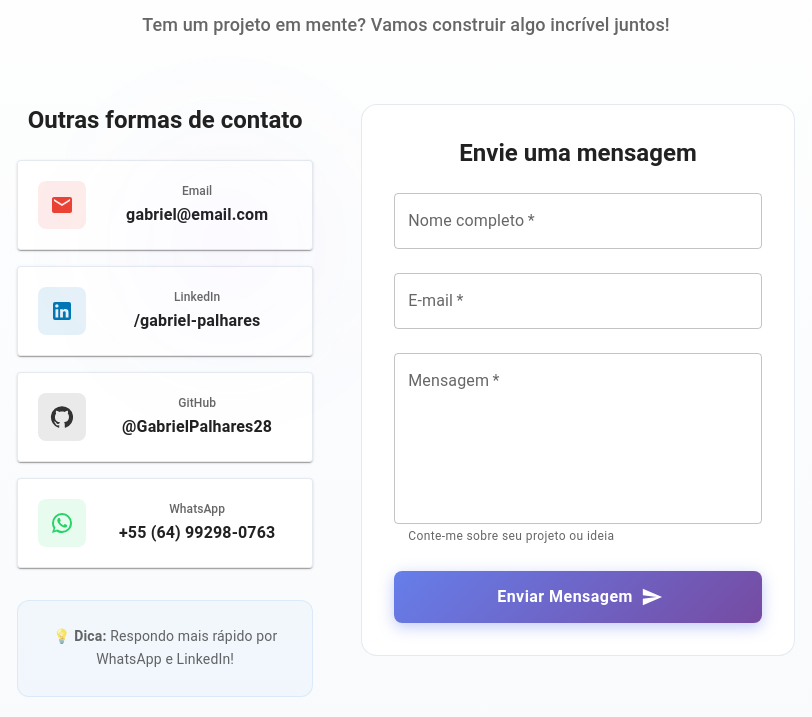
Test: Contact › clears a field error as soon as the user types again
(page scrolled)
Submit the form, box [361, 104, 795, 656]
(page scrolled)
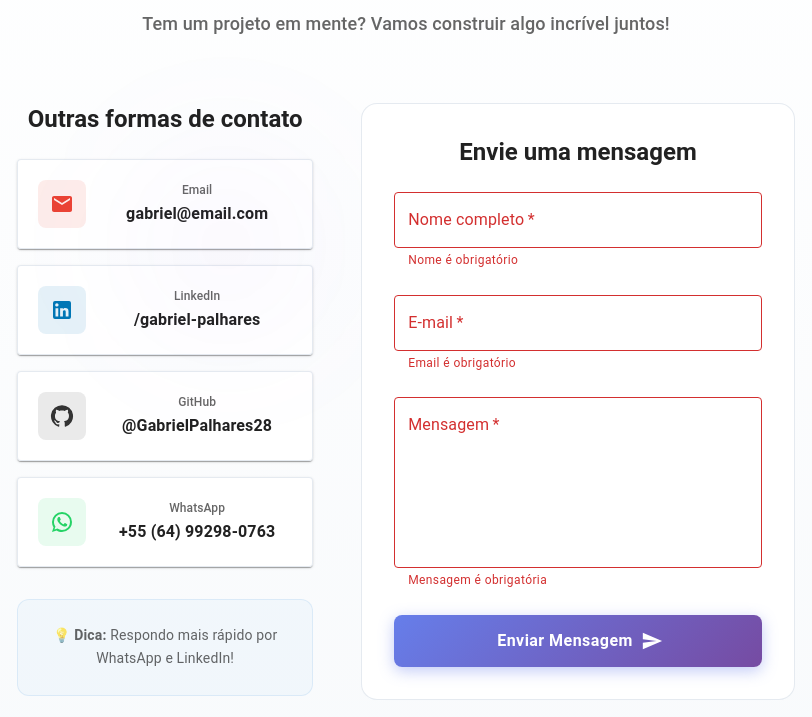
Check: the text "Nome é obrigatório" is shown, box [408, 253, 518, 267]
In the field labelled "Nome completo *": point(578, 220) [394, 192, 762, 248], type "Gabriel"
(page scrolled)
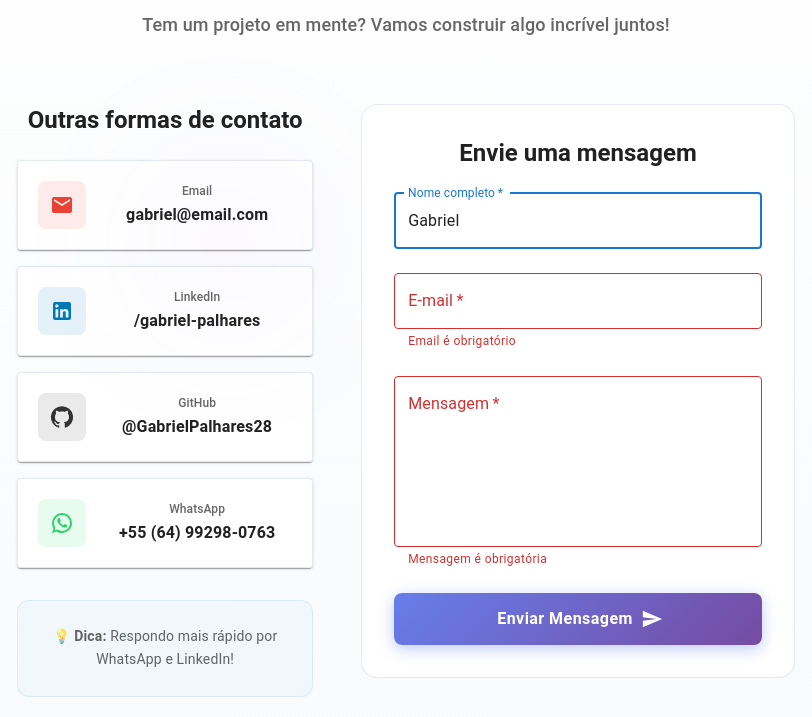
Check: the text "Nome é obrigatório" is gone
